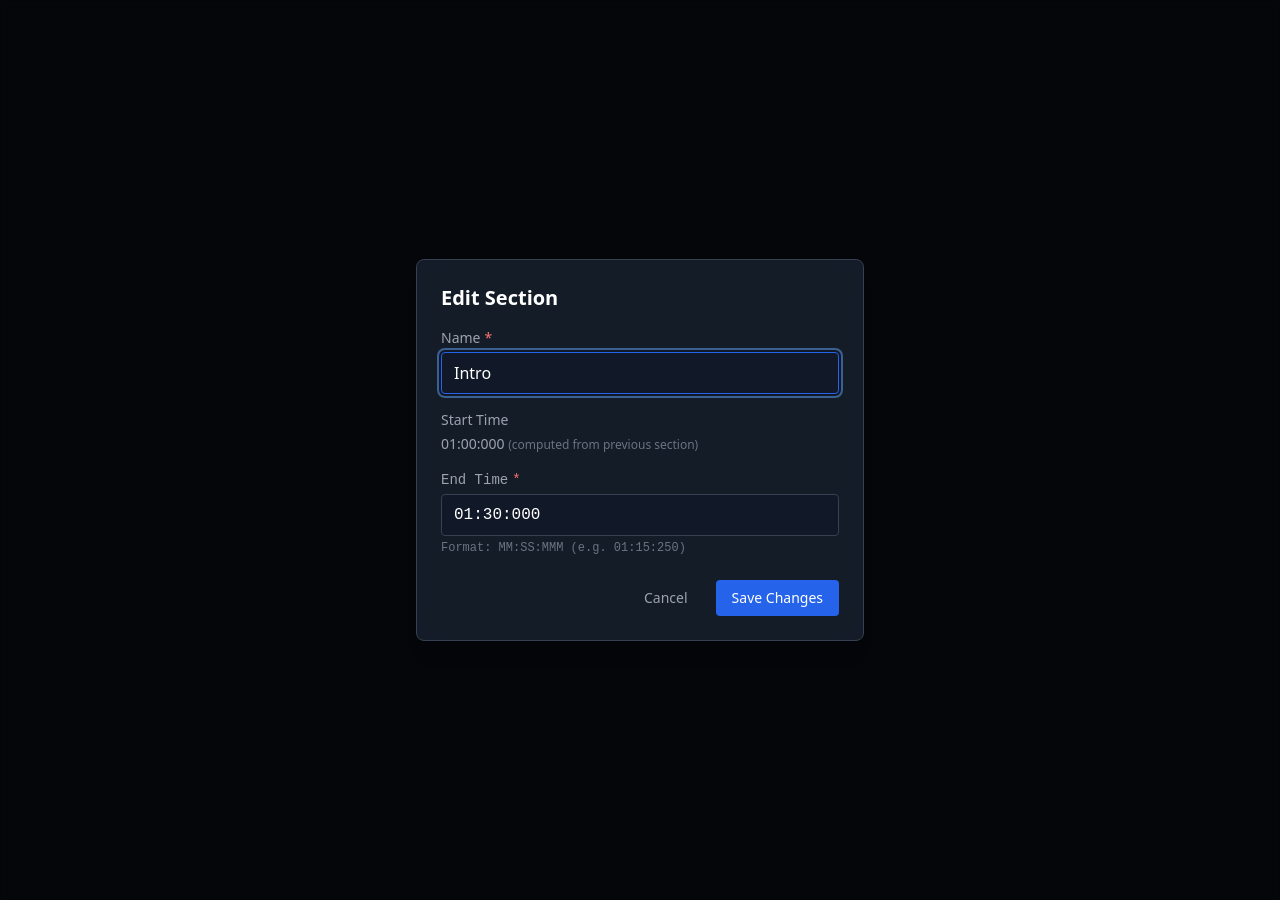
Test: EditSectionModal › shows error when end time is before start time
Replace the text in the field labelled "End Time*" with "00:00:500" at (640, 515), box [441, 494, 839, 536]
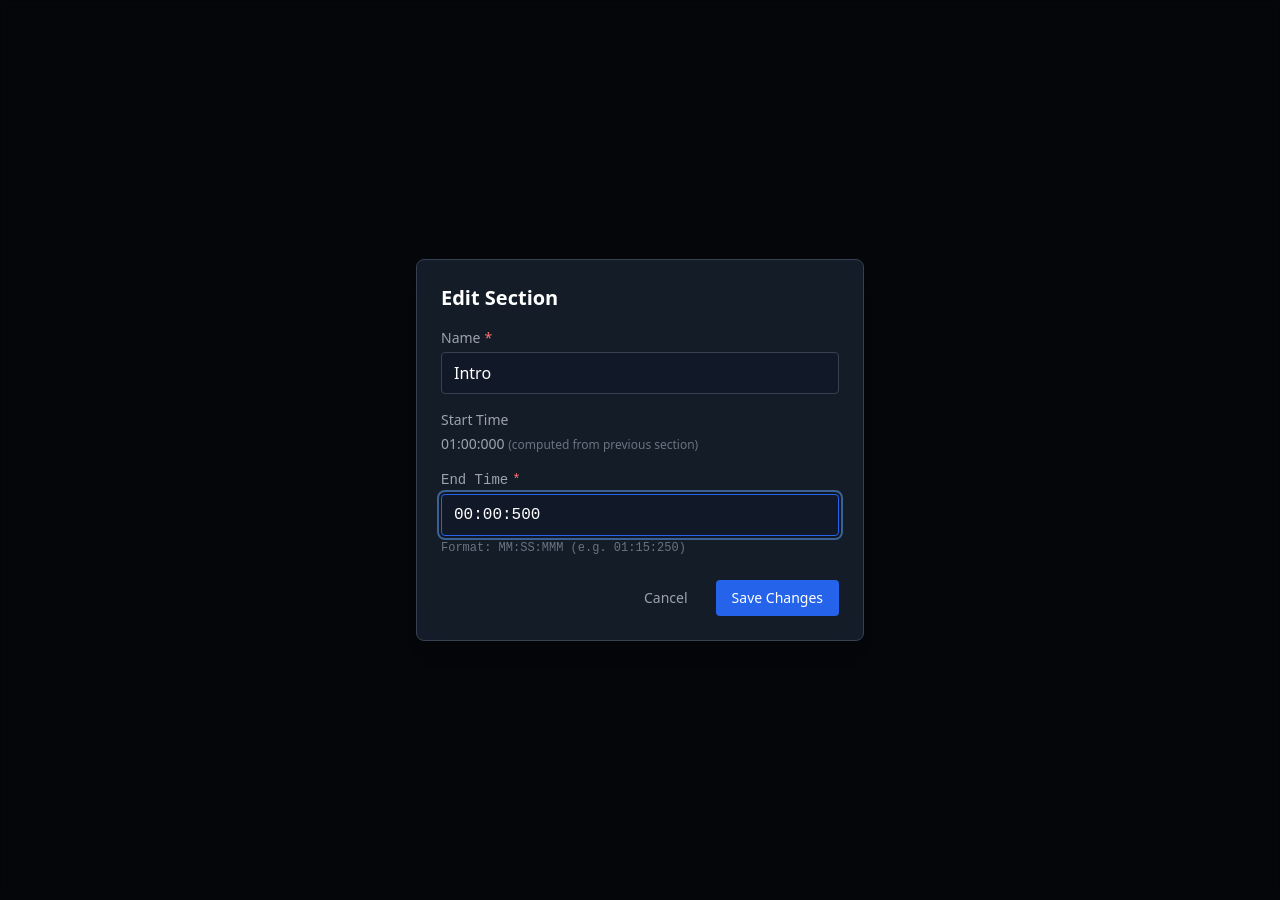
Click the button "Save Changes" at (777, 598), box [716, 580, 839, 616]
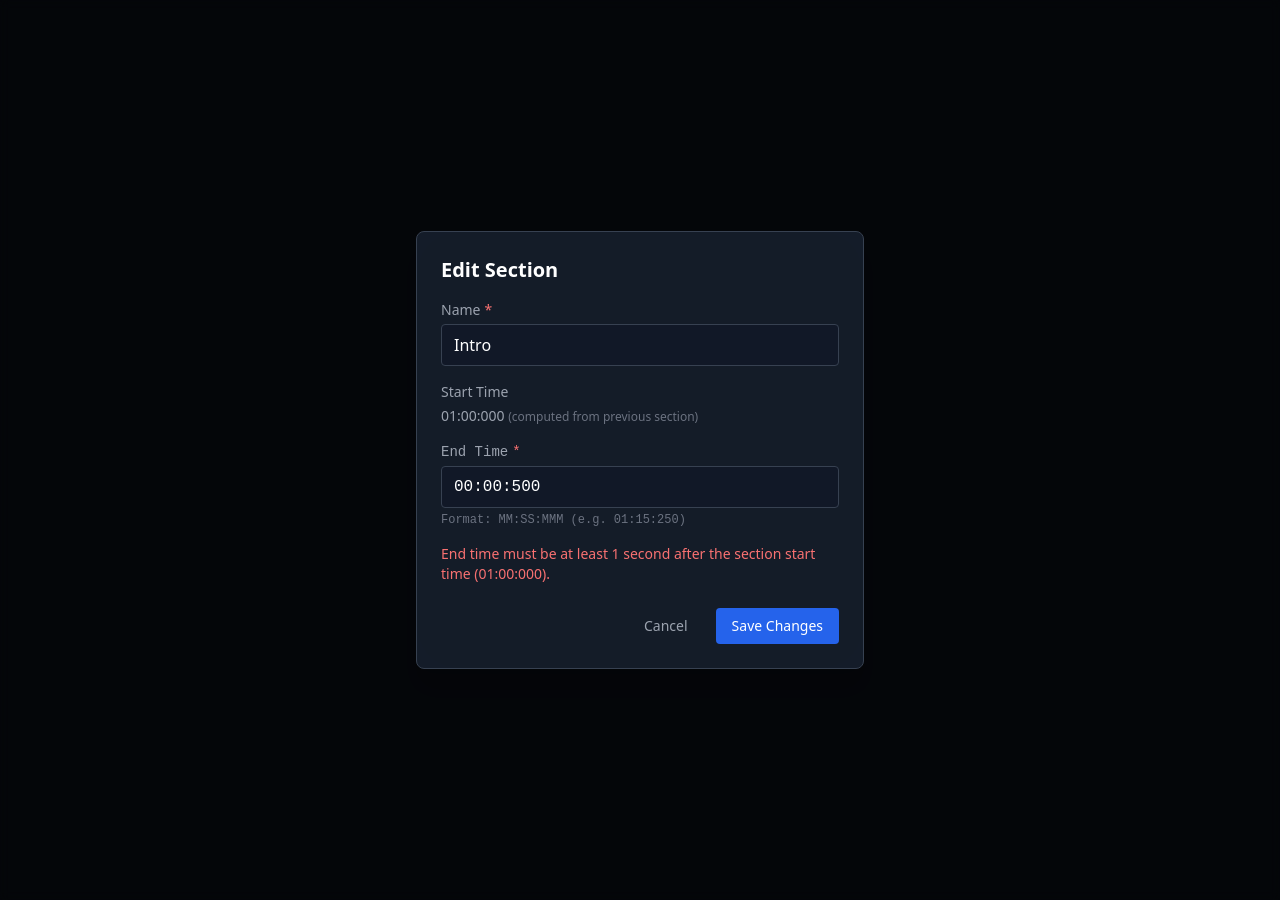
Now the message shows "after the section start time", box [441, 544, 815, 583]
